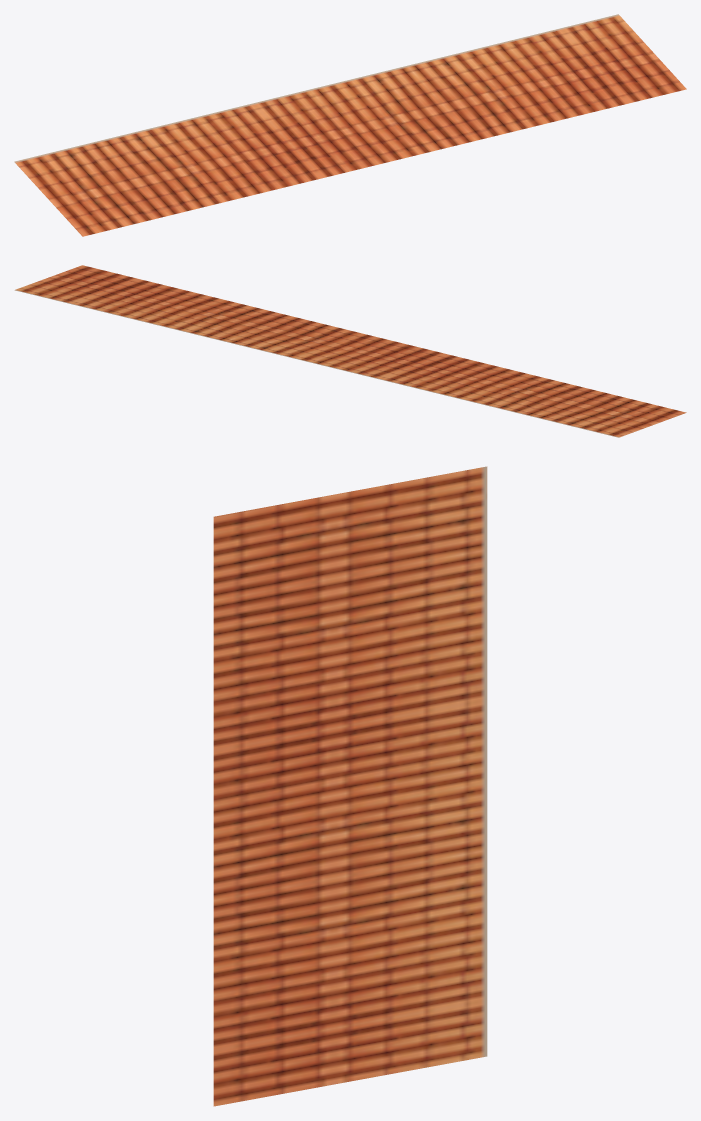
The model's file is TangTretPhai.glb.
The picture shows the model from 3 angles, top to bottom: view 1: azimuth 30°, elevation 25°; view 2: azimuth 150°, elevation 25°; view 3: azimuth 270°, elevation 25°; orthographic projection. The views are drawn at different scales.
Parts seen in each view (by area): view 1: Object_4.001; view 2: Object_4.001; view 3: Object_4.001.
Part boxes in pixels (box(x1,y1,x2,y2)): Object_4.001: box(14, 14, 686, 236); Object_4.001: box(14, 265, 686, 437); Object_4.001: box(213, 466, 487, 1106).
Bounding box in the file's own units: 35 × 1.39 × 6.86.
1 material, 1 textured.
